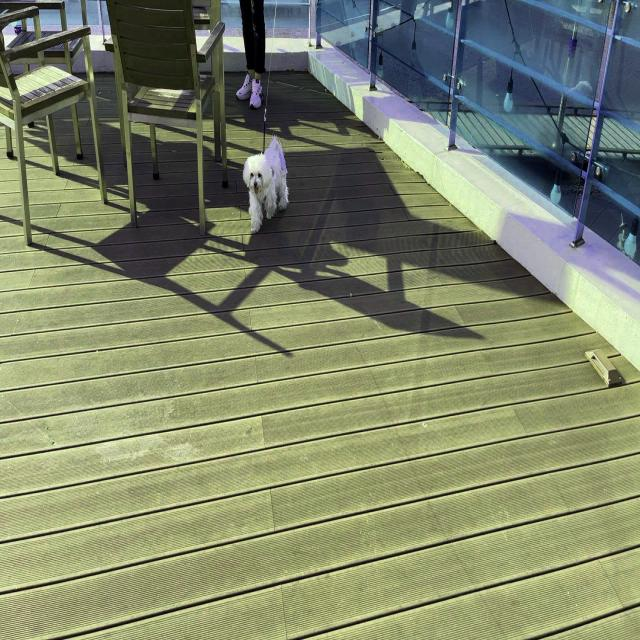Dog: (242, 133, 290, 234)
